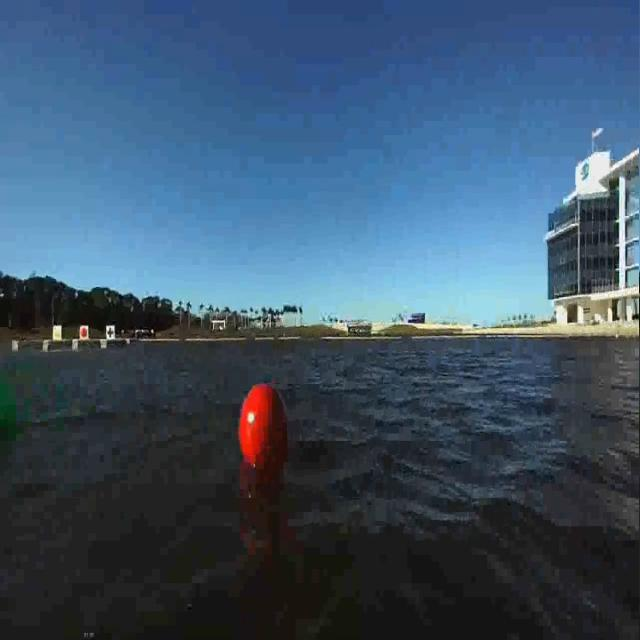red-buoy: (239, 382, 291, 475)
